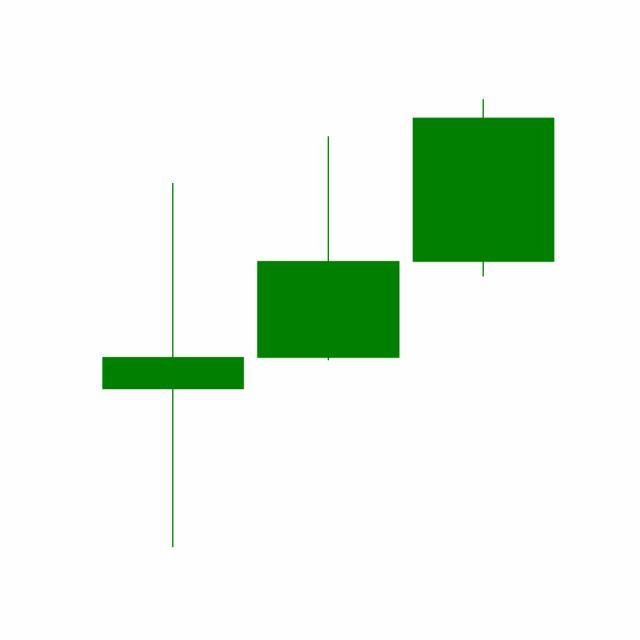Marubozu: (406, 97, 562, 279)
